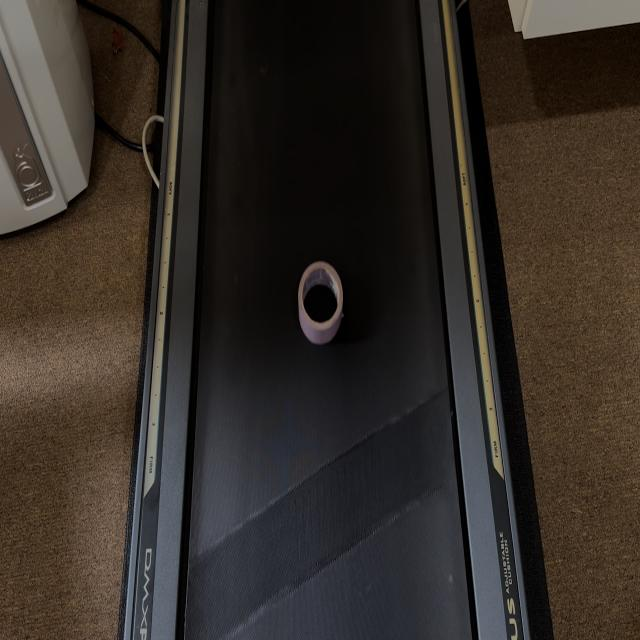Trash: (297, 259, 345, 345)
